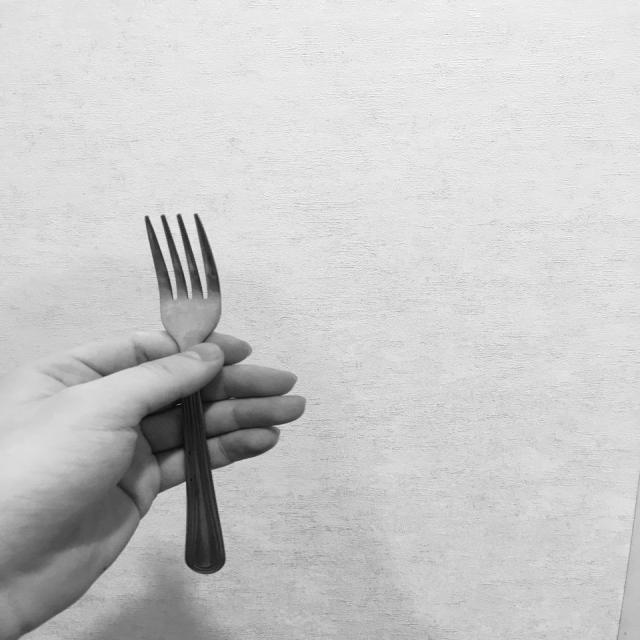fork: (142, 208, 229, 576)
